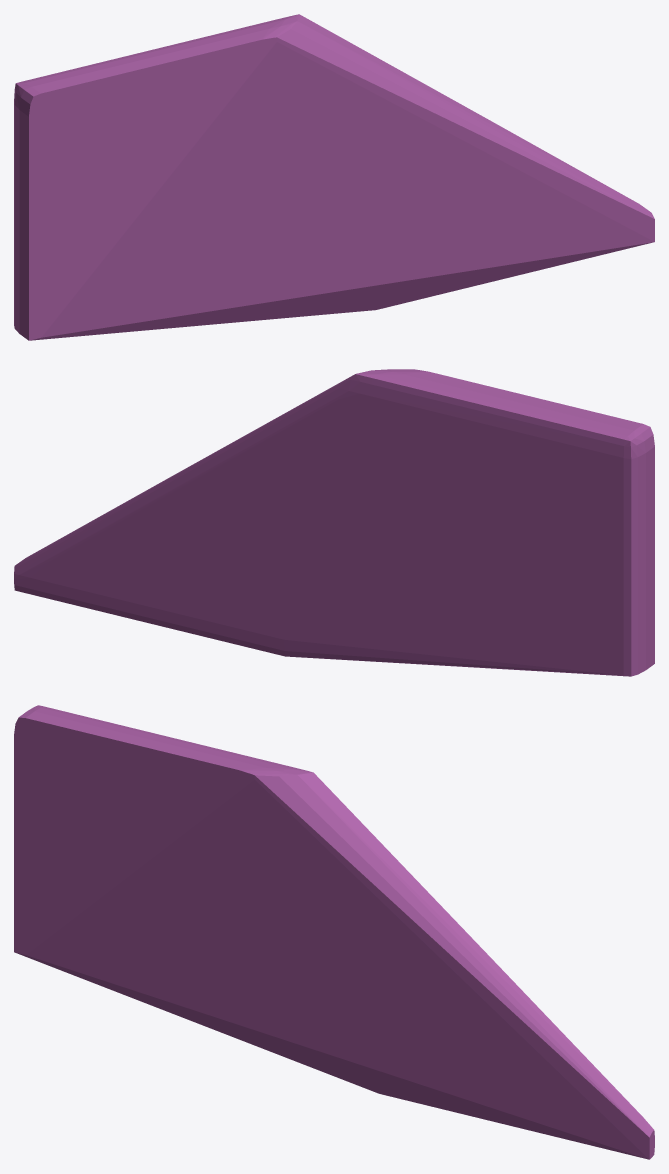
File: right_hip_yaw_link_part_7.obj
3 renders of one model, top to bottom at view 1: azimuth 30°, elevation 25°; view 2: azimuth 150°, elevation 25°; view 3: azimuth 330°, elevation 25°, orthographic. The views are drawn at different scales.
Bounding box in the file's own units: 0.0713 × 0.0332 × 0.00391.
